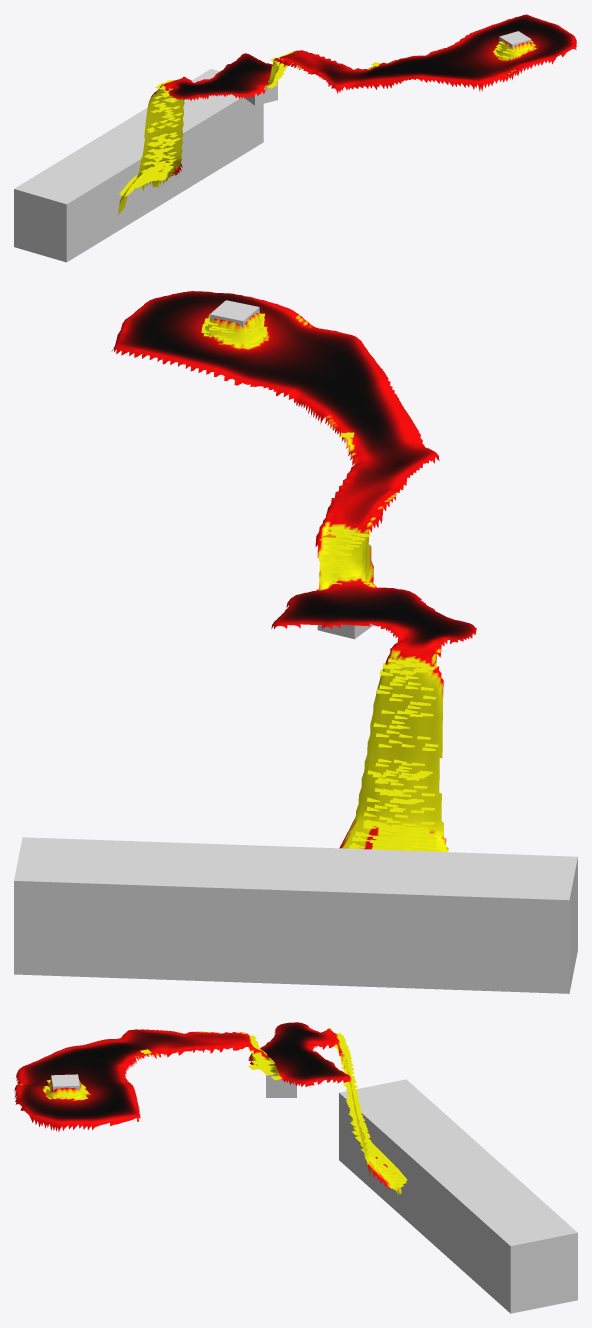
Rendered from floor-02-waterfall-02.fbx.
The picture shows the model from 3 angles, top to bottom: view 1: azimuth 30°, elevation 25°; view 2: azimuth 150°, elevation 25°; view 3: azimuth 270°, elevation 25°; orthographic projection. The views are drawn at different scales.
Parts seen in each view (by area): view 1: Cube.005, waterfall-02-fluid, Cube.006; view 2: Cube.005, waterfall-02-fluid; view 3: Cube.005, waterfall-02-fluid, Cube.006, Cube.002.
Boxes of the visible parts, bbox=[...] form: Cube.005: bbox=[14, 69, 263, 262]; waterfall-02-fluid: bbox=[117, 14, 576, 215]; Cube.006: bbox=[243, 82, 277, 105]; Cube.005: bbox=[14, 837, 577, 993]; waterfall-02-fluid: bbox=[111, 291, 476, 851]; Cube.005: bbox=[339, 1079, 577, 1313]; waterfall-02-fluid: bbox=[14, 1022, 407, 1194]; Cube.006: bbox=[266, 1074, 296, 1097]; Cube.002: bbox=[51, 1074, 79, 1090].
Size of the model in its own units: 5799 by 3086 by 5904.
